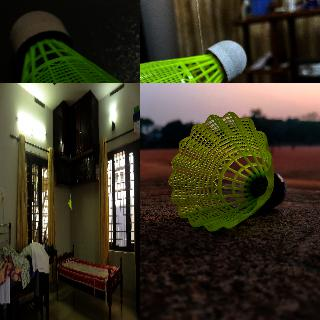shuttlecock: (167, 110, 287, 230), (10, 10, 139, 82), (140, 39, 247, 82), (68, 199, 72, 210)
